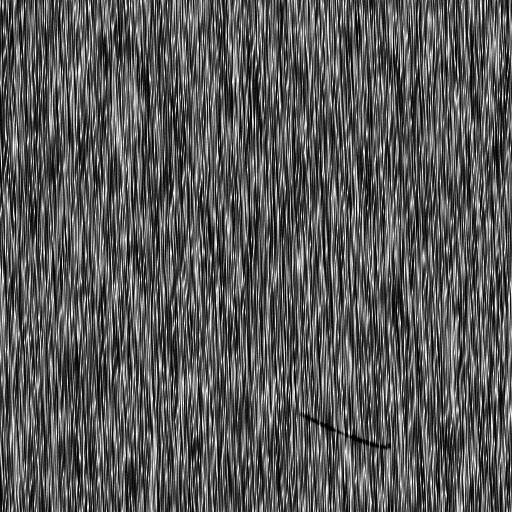DefectTypeC: (300, 412, 396, 451)
